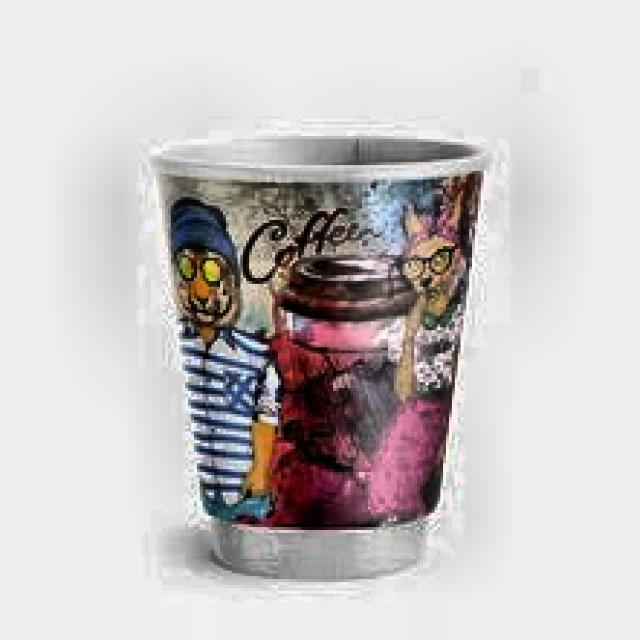Cup: (147, 122, 489, 576)
